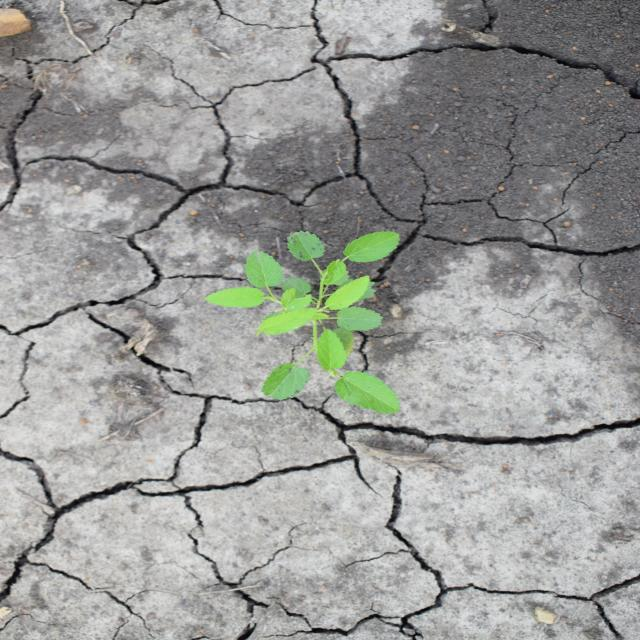PricklySida: (203, 229, 403, 416)
